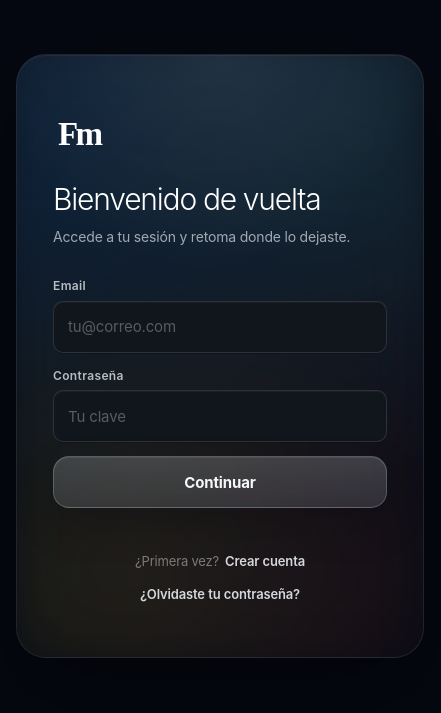
Scenario: LoginPage › shows error on login failure
This screenshot has width=441, height=713.
In the field with placeholder "tu@correo.com": [220, 327] box 53,301 -> 387,353, type "test@example.com"
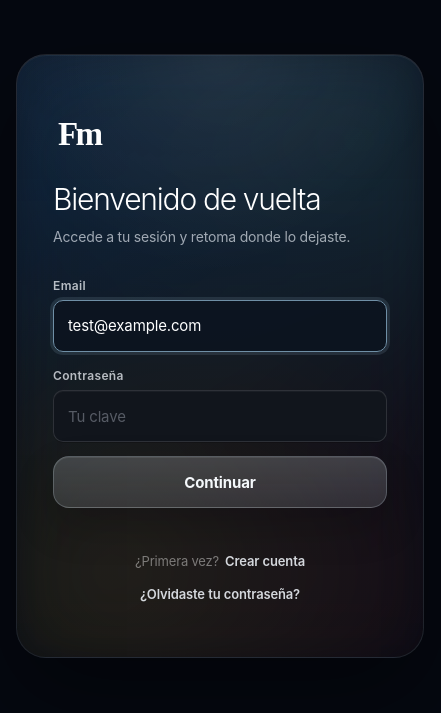
In the password field with placeholder "Tu clave": [220, 416] box 53,390 -> 387,442, type "Password123"
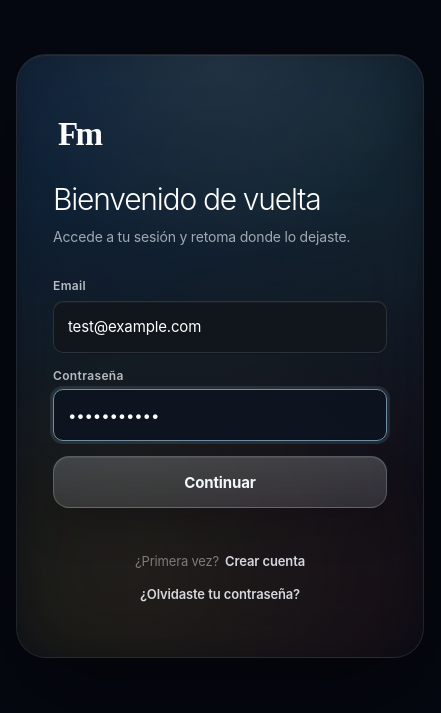
Click the button "Continuar": [220, 482] box 53,456 -> 387,508
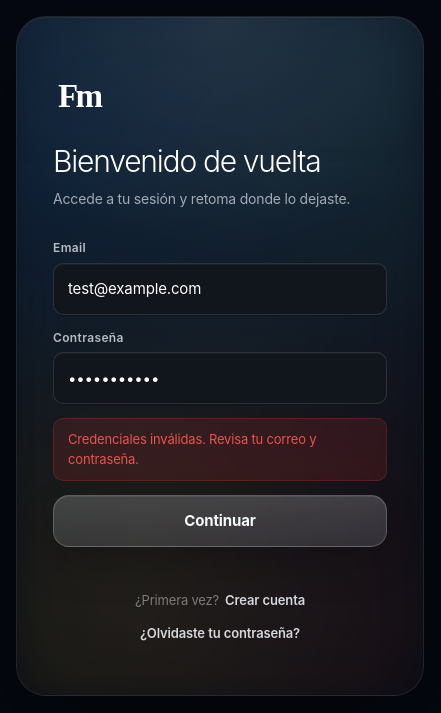
Expected: the text "Credenciales inválidas. Revisa tu correo y contraseña." is shown, 53,418 -> 387,480
